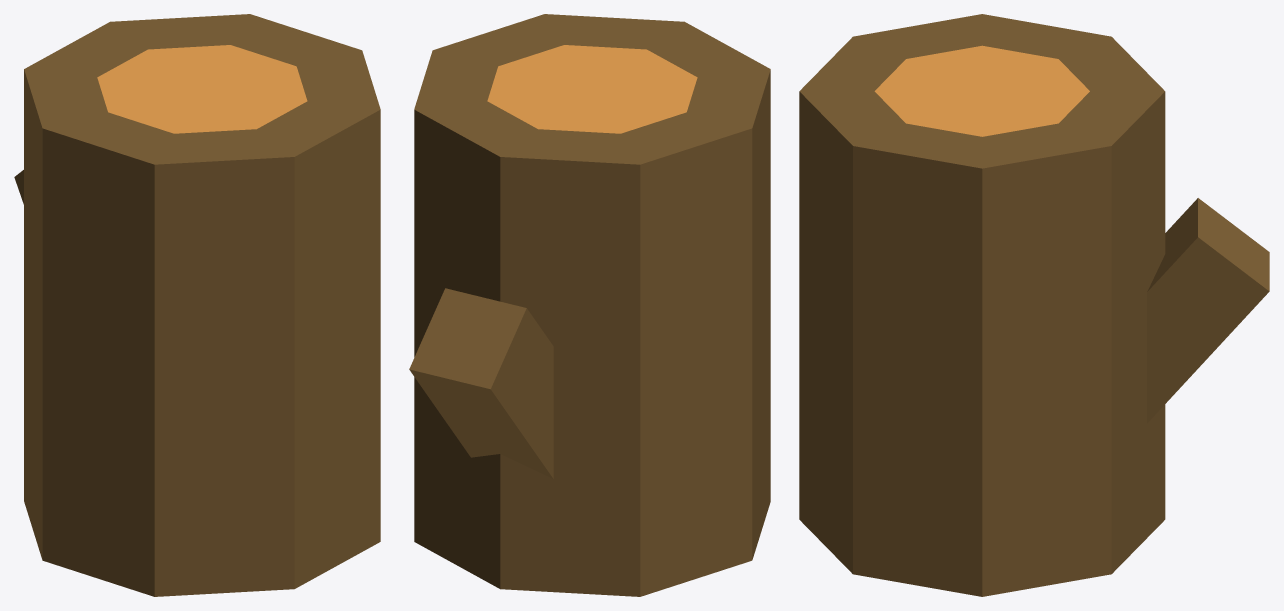
File: wood.fbx
3 views of the same model, side by side, from view 1: azimuth 30°, elevation 25°; view 2: azimuth 150°, elevation 25°; view 3: azimuth 270°, elevation 25° (orthographic).
Parts seen in each view (by area): view 1: wood; view 2: wood; view 3: wood.
Part boxes in pixels (box(x1,y1,x2,y2)): wood: box(14, 14, 380, 596); wood: box(409, 14, 770, 596); wood: box(799, 14, 1269, 596).
Size of the model in its own units: 36.19 by 46.75 by 46.51.
